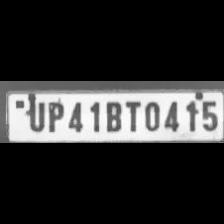0: (142, 99, 160, 131)
1: (85, 99, 102, 133), (182, 98, 198, 132)
4: (160, 98, 180, 132), (64, 100, 84, 132)
5: (199, 97, 219, 131)
B: (102, 99, 122, 134)
P: (46, 99, 64, 134)
T: (123, 98, 141, 132)
U: (24, 98, 46, 132)
